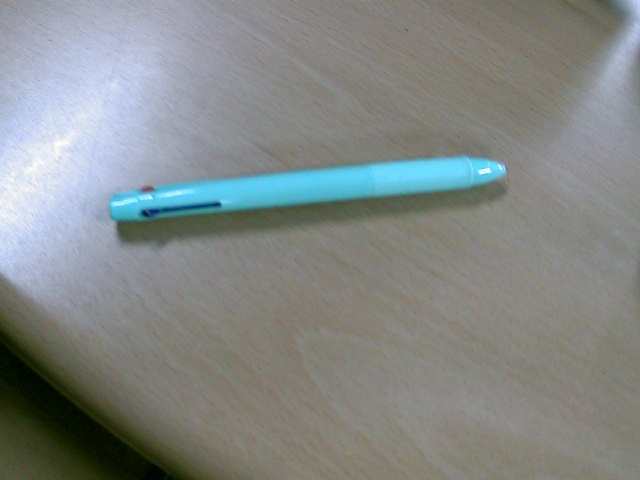pen: (107, 156, 503, 221)
